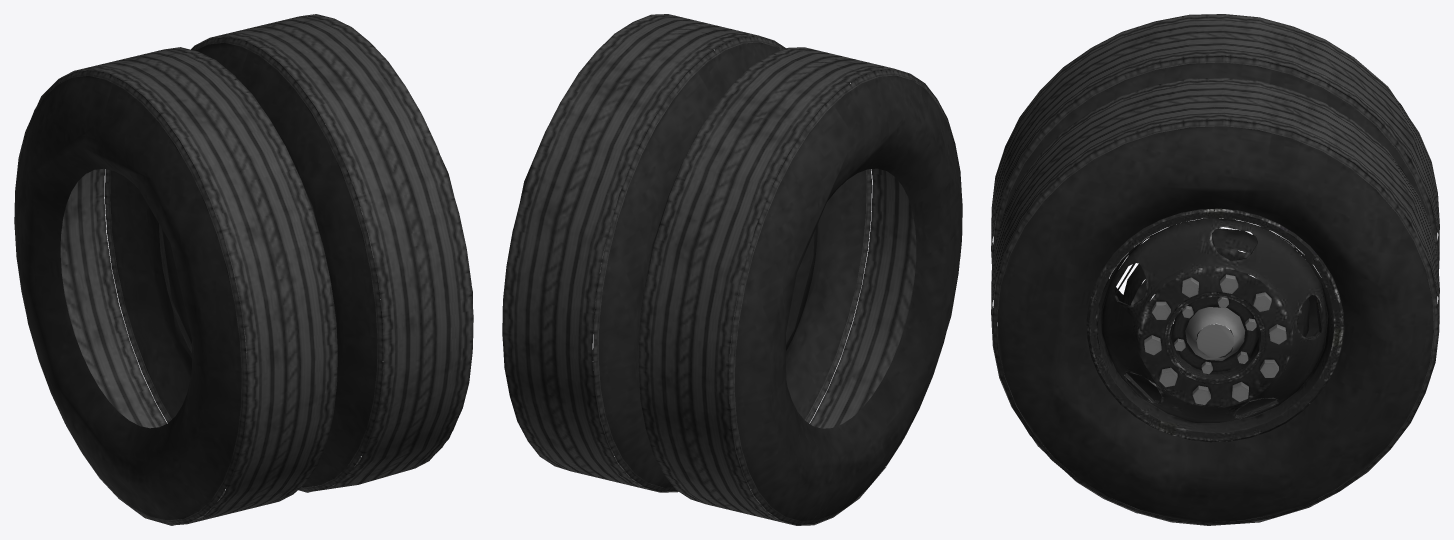
Rendered from tm_wheel_a2_R.glb.
3 views of the same model, side by side, from view 1: azimuth 30°, elevation 25°; view 2: azimuth 150°, elevation 25°; view 3: azimuth 270°, elevation 25° (orthographic). The views are drawn at different scales.
Visible parts, largest first — view 1: wheel_(2, 1); view 2: wheel_(2, 1); view 3: wheel_(2, 1).
Part boxes in pixels (left/top/right/bottom): wheel_(2, 1): left=14, top=14, right=473, bottom=525; wheel_(2, 1): left=502, top=14, right=962, bottom=525; wheel_(2, 1): left=991, top=14, right=1439, bottom=525.
Bounding box in the file's own units: 63.93 × 90.33 × 90.34.
Materials: 1 (1 with a texture image).
